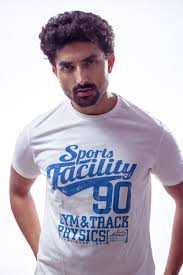T-Shirt_Regular: (6, 81, 183, 273)
